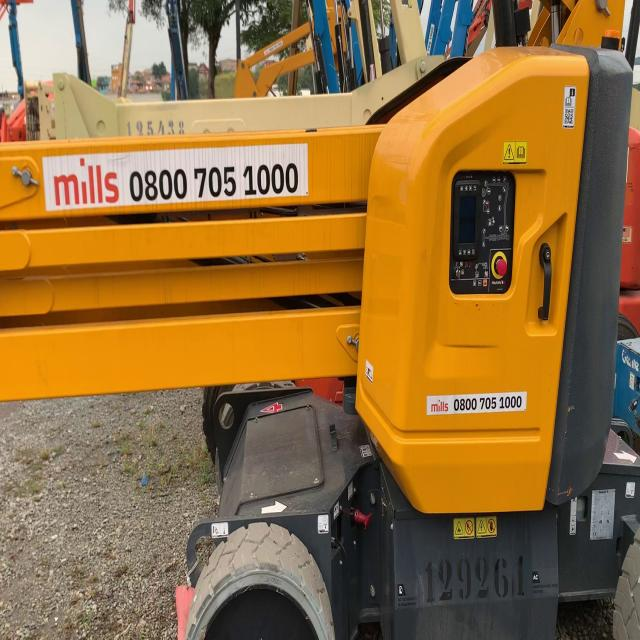Adesivo Longo: (41, 139, 311, 216), (425, 390, 528, 416)
